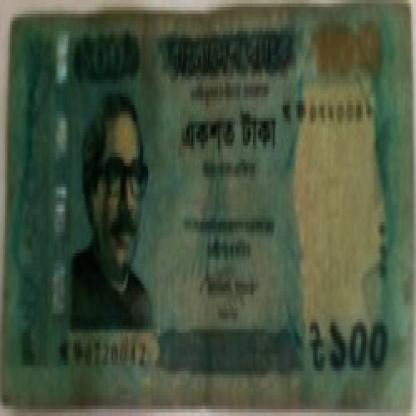one hundred taka: (306, 295, 403, 388), (68, 21, 148, 90), (308, 21, 389, 83)
